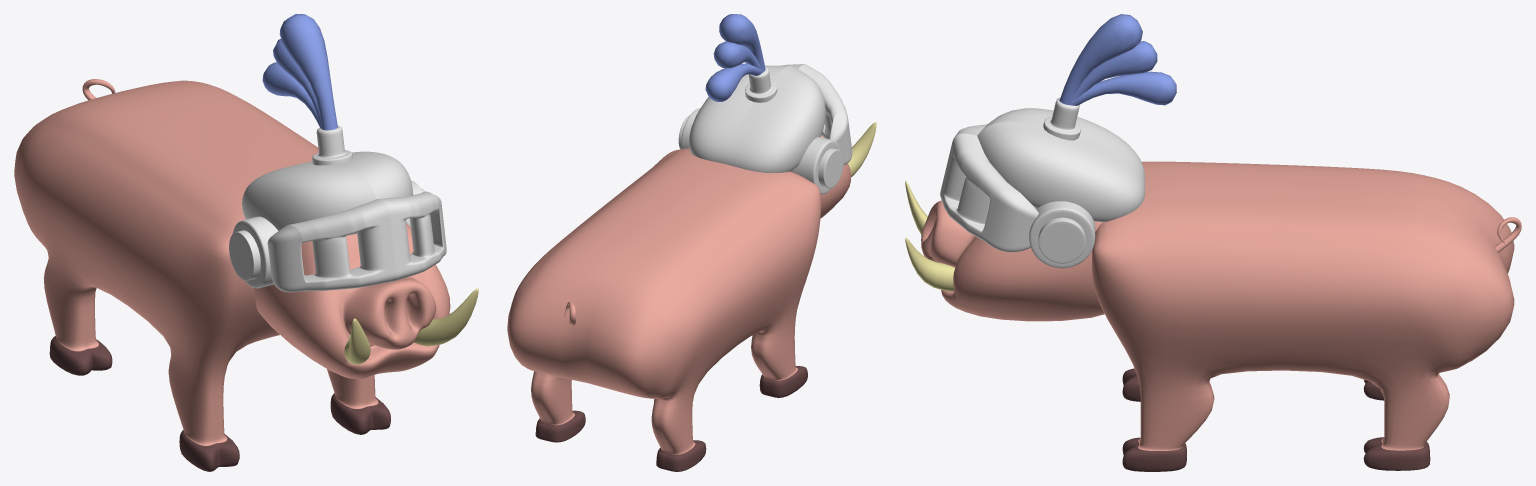
The model's file is hOG.fbx.
3 renders of one model, left to right at view 1: azimuth 30°, elevation 25°; view 2: azimuth 150°, elevation 25°; view 3: azimuth 270°, elevation 25°, orthographic. The views are drawn at different scales.
Parts seen in each view (by area): view 1: Cube, Cube.001, Cube.003, Cube.004, Cube.006, Cube.002, Circle.001, Circle, Cube.008, Cube.005, Cube.007; view 2: Cube, Cube.004, Cube.003, Circle.001, Cube.006, Cube.008, Circle, Cube.007, Cube.005, Cube.001, Cube.002; view 3: Cube, Cube.004, Cube.001, Cube.003, Cube.006, Cube.008, Circle.001, Circle, Cube.007, Cube.002, Cube.005.
Part boxes in pixels (x1,y1,x2,y2): Cube: [14, 80, 390, 471]; Cube.001: [254, 222, 450, 379]; Cube.003: [267, 191, 446, 292]; Cube.004: [242, 151, 413, 235]; Cube.006: [279, 14, 337, 130]; Cube.002: [344, 288, 478, 364]; Circle.001: [232, 180, 423, 288]; Circle: [229, 188, 425, 280]; Cube.008: [262, 62, 336, 129]; Cube.005: [312, 125, 352, 165]; Cube.007: [273, 39, 320, 123]; Cube: [507, 148, 821, 471]; Cube.004: [689, 65, 825, 173]; Cube.003: [782, 64, 852, 165]; Circle.001: [681, 108, 840, 194]; Cube.006: [719, 14, 765, 71]; Cube.008: [705, 63, 762, 101]; Circle: [678, 115, 843, 188]; Cube.007: [713, 41, 761, 69]; Cube.005: [745, 66, 777, 102]; Cube.001: [820, 136, 851, 218]; Cube.002: [848, 122, 876, 177]; Cube: [1092, 161, 1514, 471]; Cube.004: [977, 108, 1144, 222]; Cube.001: [921, 200, 1104, 321]; Cube.003: [940, 124, 1038, 252]; Cube.006: [1060, 14, 1142, 104]; Cube.008: [1059, 71, 1176, 105]; Circle.001: [1029, 201, 1095, 268]; Circle: [1038, 217, 1085, 263]; Cube.007: [1072, 41, 1157, 100]; Cube.002: [905, 180, 954, 291]; Cube.005: [1043, 97, 1080, 140].
Bounding box in the file's own units: 290 × 546 × 738.
